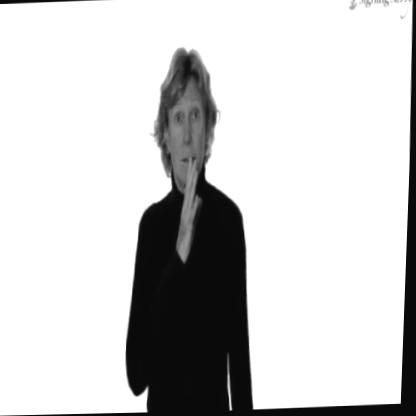Talk: (145, 34, 218, 302)
